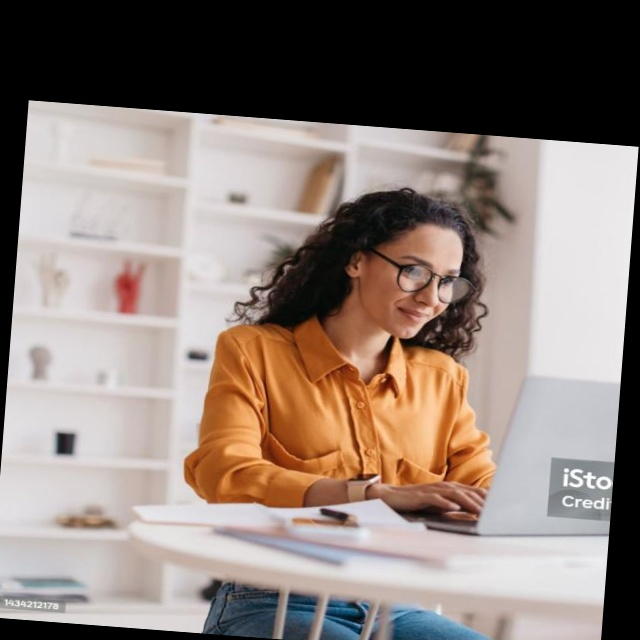Sin_Casco_Mascarrilla: (327, 182, 476, 344)
